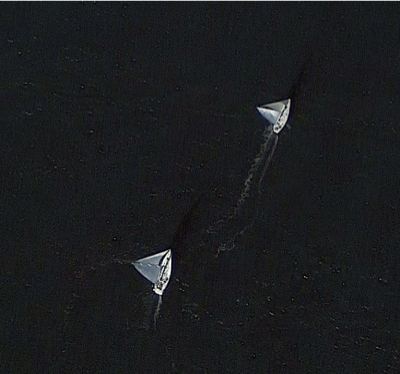boat: (130, 245, 175, 296), (256, 96, 294, 135)
